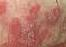plaque psoriasis: (0, 19, 48, 47), (44, 6, 60, 24), (28, 1, 41, 19), (0, 0, 7, 15)
